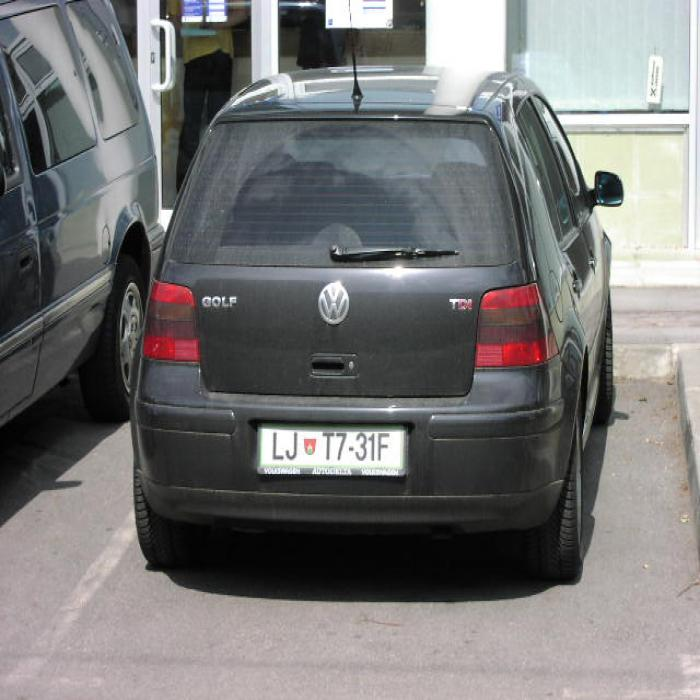number_plate: (260, 424, 402, 468)
